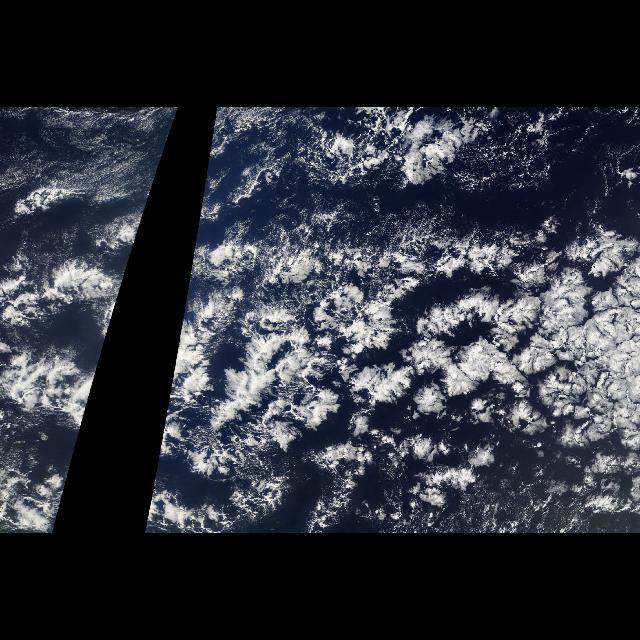Flower: (149, 191, 639, 513), (15, 191, 151, 513)
